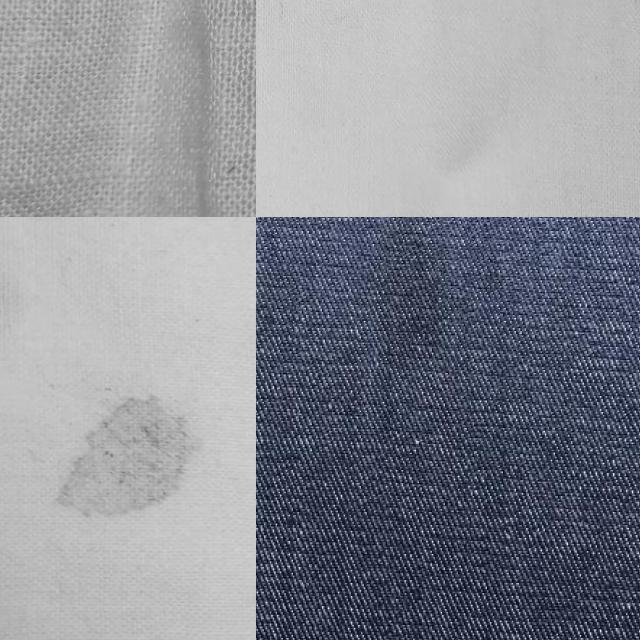Thread_other: (32, 376, 226, 554)
